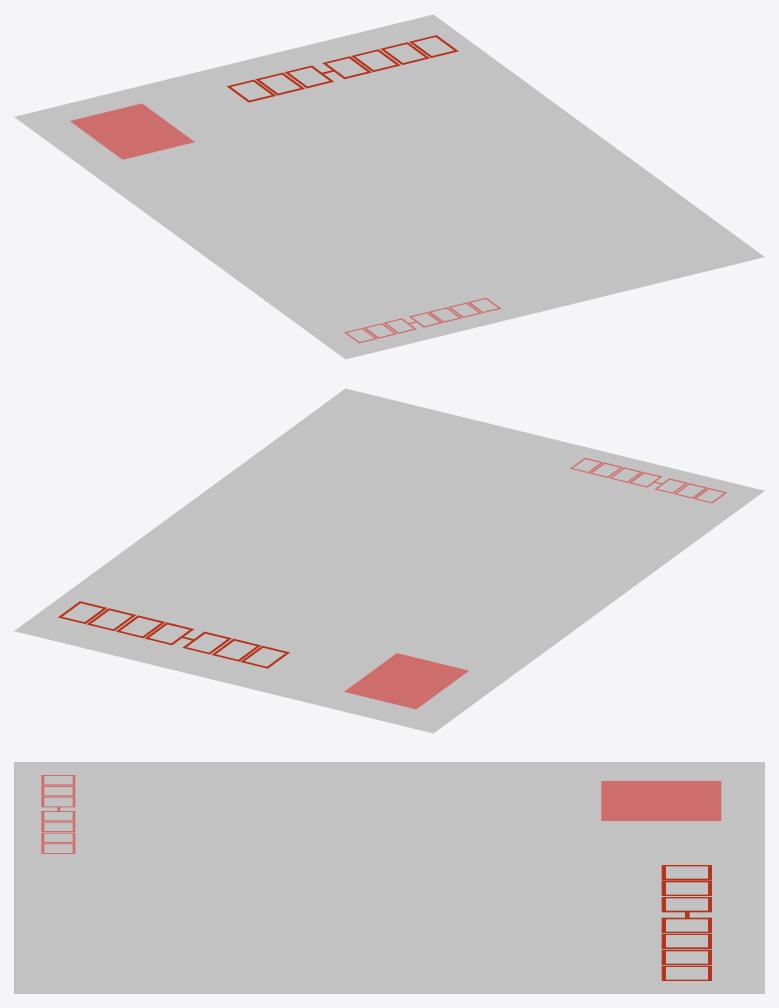
Rendered from Hagaki_ura_before.fbx.
3 renders of one model, top to bottom at view 1: azimuth 30°, elevation 25°; view 2: azimuth 150°, elevation 25°; view 3: azimuth 270°, elevation 25°, orthographic. The views are drawn at different scales.
Visible parts, largest first — view 1: 平面; view 2: 平面; view 3: 平面.
Boxes of the visible parts, left/top/right/bottom form: 平面: left=14, top=14, right=764, bottom=359; 平面: left=14, top=388, right=764, bottom=733; 平面: left=14, top=762, right=764, bottom=993.
Size of the model in its own units: 200 by 0.6898 by 274.
